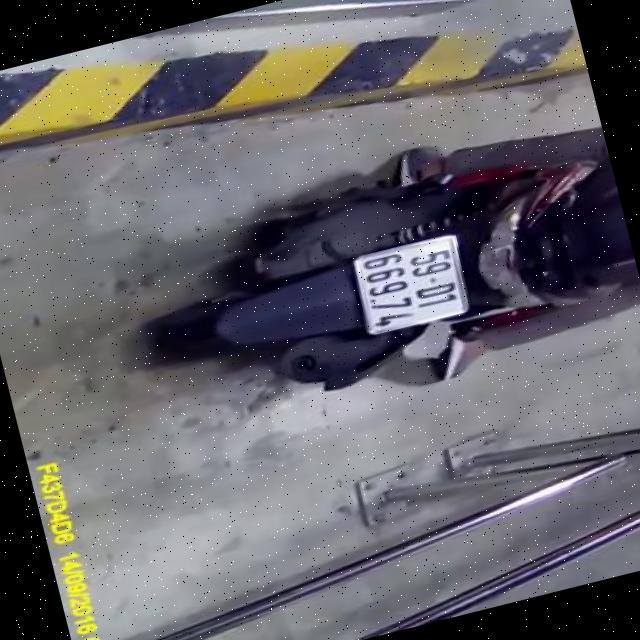license_plate: (340, 227, 482, 341)
